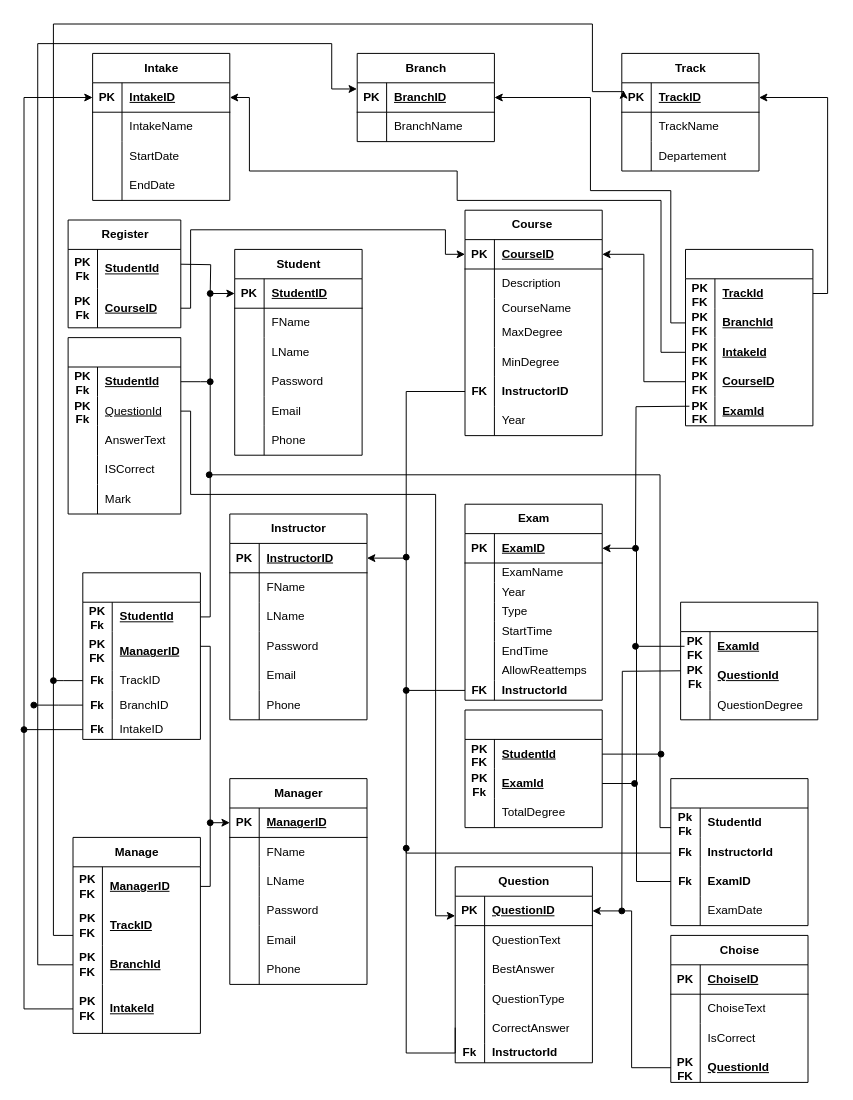
The diagram is 853 pixels wide and 1100 high, and some of its shapes have lost their labels. The box of each missing label's shape, as (x1, y1, x2, y2) in pixels:
Add: (82, 572, 200, 739)
Answering: (67, 337, 181, 514)
Contains: (680, 601, 818, 720)
Examine: (464, 709, 602, 828)
Have: (685, 248, 813, 426)
Select: (670, 778, 808, 926)
